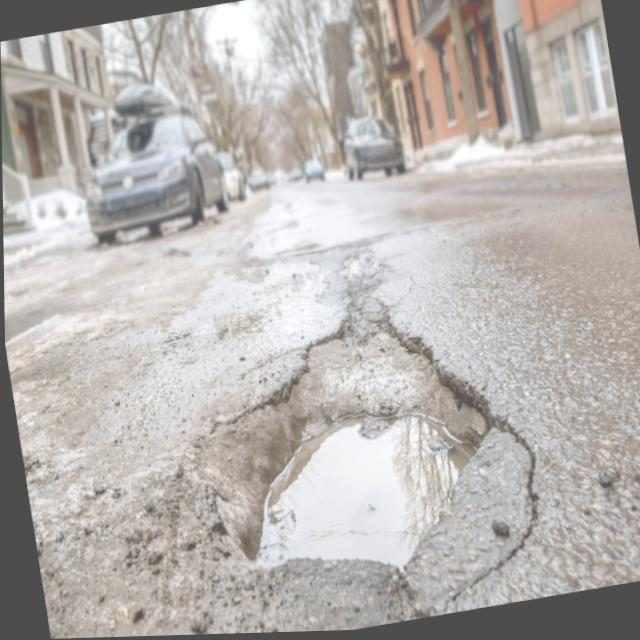Pothole: (125, 237, 551, 634)
